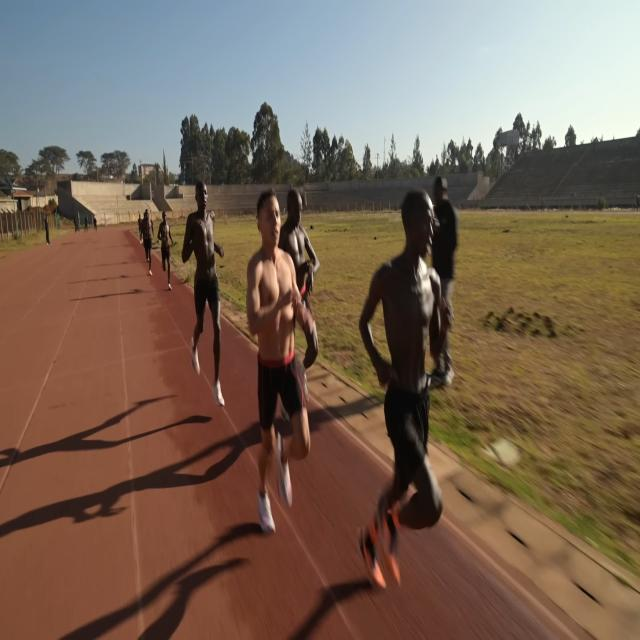person_running: (347, 194, 458, 598), (246, 185, 312, 540), (182, 160, 236, 413), (280, 192, 319, 299), (160, 210, 182, 286), (141, 198, 157, 266)
